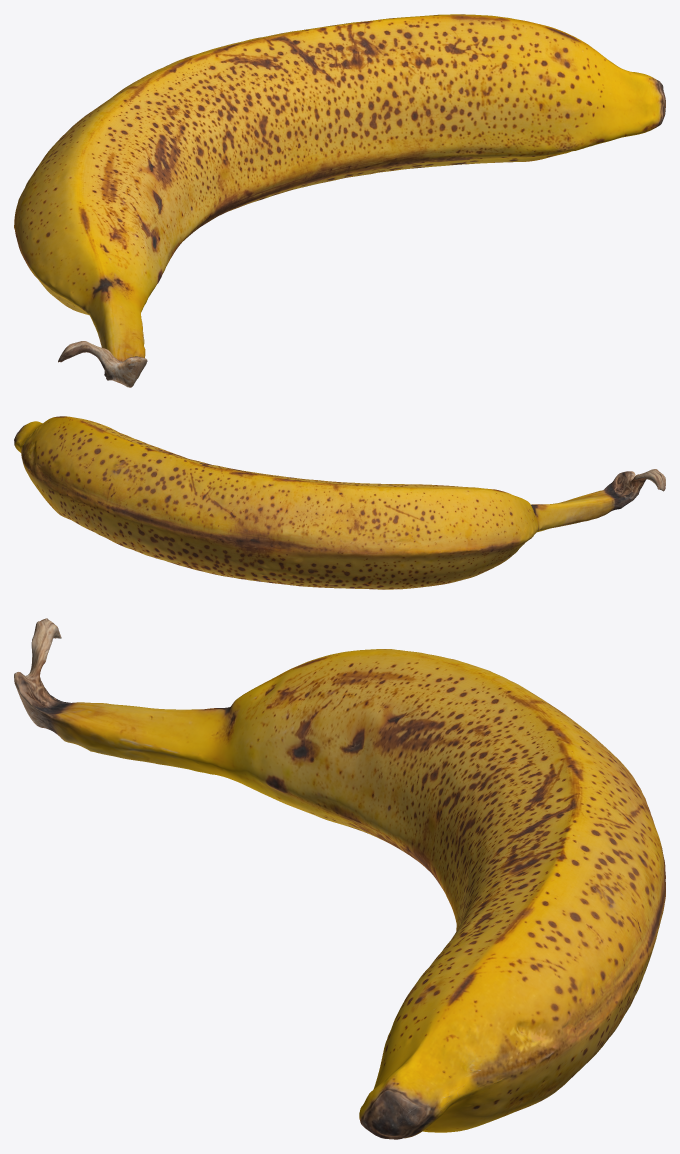
File: banana.glb
3 renders of one model, top to bottom at view 1: azimuth 30°, elevation 25°; view 2: azimuth 150°, elevation 25°; view 3: azimuth 270°, elevation 25°, orthographic. The views are drawn at different scales.
Parts seen in each view (by area): view 1: Object_2.001; view 2: Object_2.001; view 3: Object_2.001.
Part boxes in pixels (left/top/right/bottom): Object_2.001: left=14, top=14, right=665, bottom=387; Object_2.001: left=14, top=416, right=665, bottom=589; Object_2.001: left=14, top=618, right=665, bottom=1139.
Bounding box in the file's own units: 2.71 × 0.5108 × 1.58.
1 material, 1 textured.
